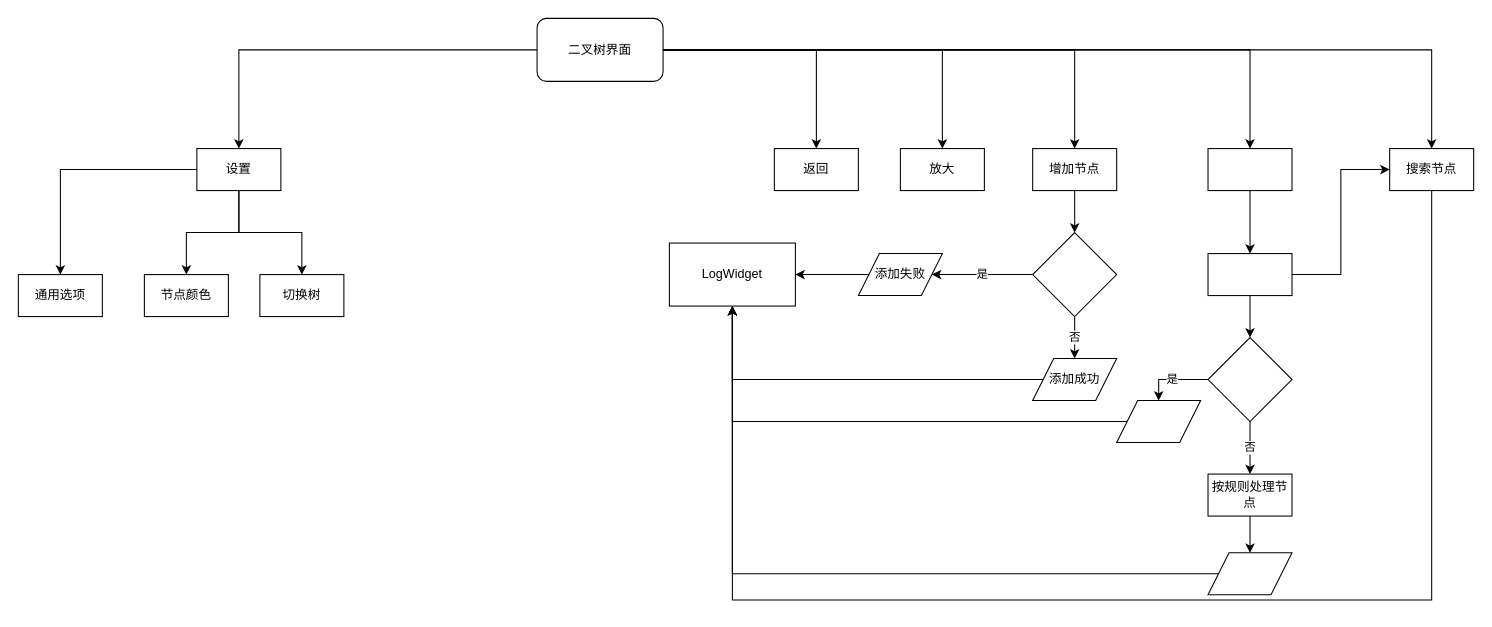
The diagram is 1492 pixels wide and 627 high, and some of its shapes have lost their labels. Here are the shapes that lost their labels. From the top down, the centre of each, then its label:
(x=1249, y=169): 删除节点
(x=1074, y=274): 是否重复
(x=1249, y=274): 获取节点
(x=1249, y=379): 节点为空
(x=1158, y=421): 不存在
(x=1249, y=573): 删除成功
